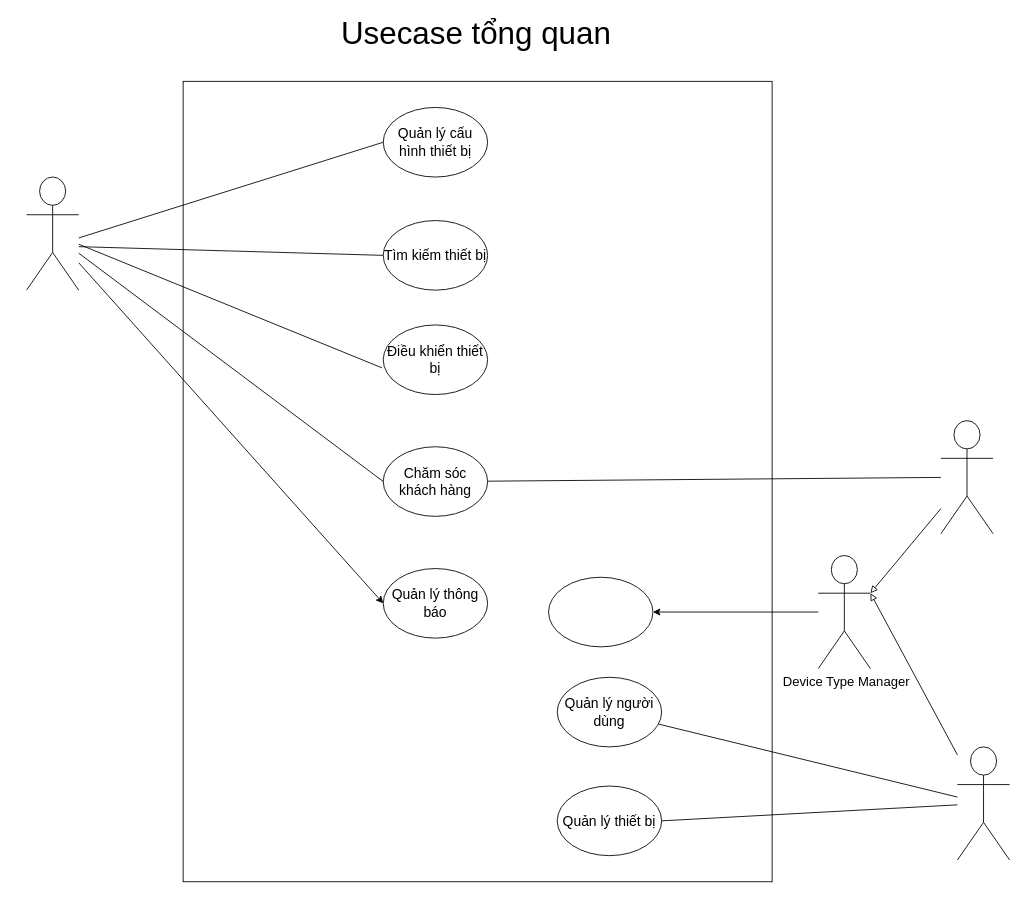
This 1025x902 diagram has some shape labels left out. The centre of each missing label's shape, as x and y in pixels:
Admin: (983,803)
Customer: (52,233)
Engineer: (966,477)
Quản lý loại thiết bị: (600,611)
